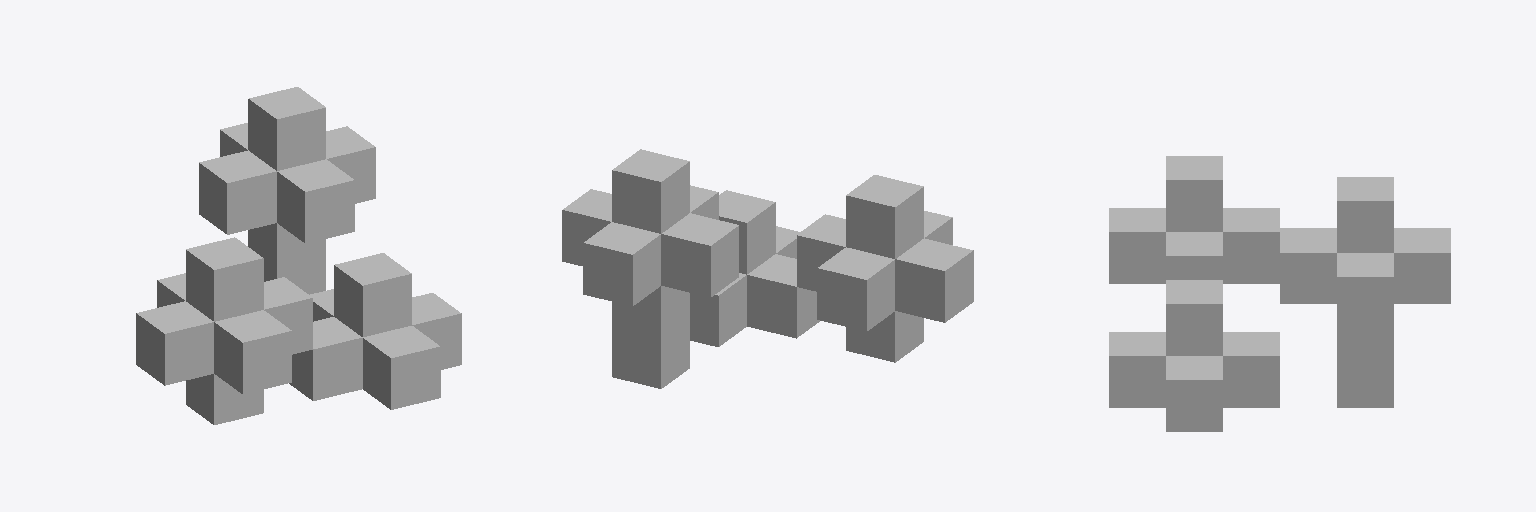
File: flowerYellow1-0.obj
The picture shows the model from 3 angles: view 1: azimuth 30°, elevation 25°; view 2: azimuth 150°, elevation 25°; view 3: azimuth 270°, elevation 25°; orthographic projection.
Visible parts, largest first — view 1: object 1; view 2: object 1; view 3: object 1.
Part boxes in pixels (x1,y1,x2,y2): object 1: (136,87,461,424); object 1: (562,149,973,388); object 1: (1109,156,1450,431).
Size of the model in its own units: 0.6 by 0.4 by 0.6.